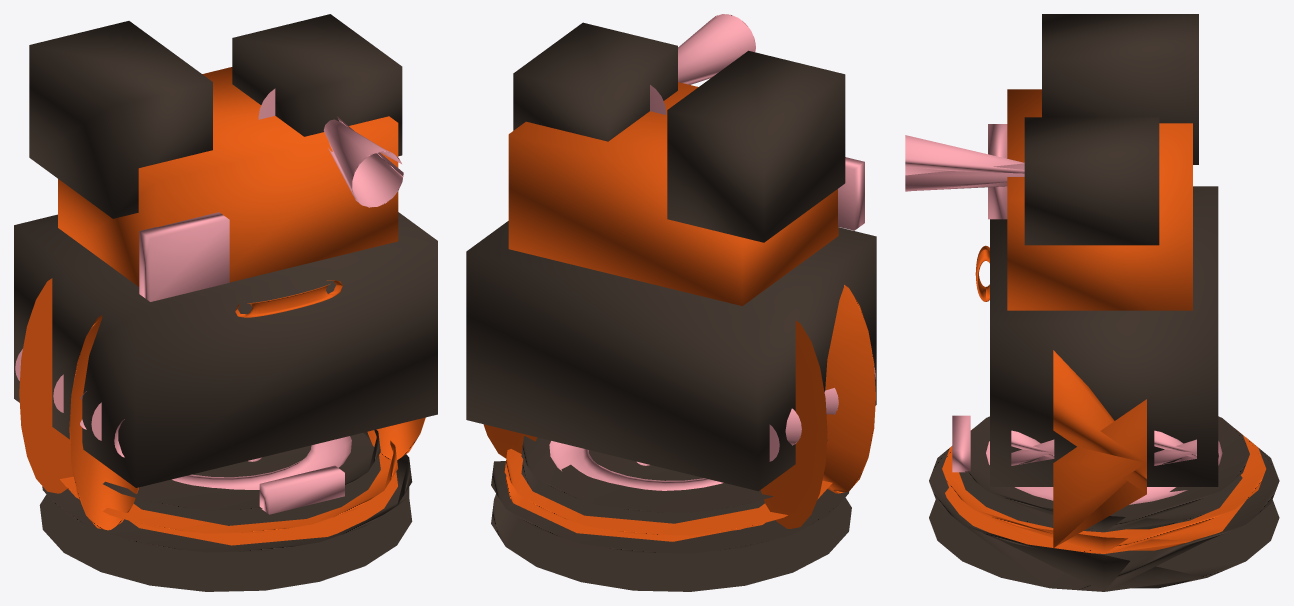
Rendered from the_tank.glb.
3 renders of one model, left to right at view 1: azimuth 30°, elevation 25°; view 2: azimuth 150°, elevation 25°; view 3: azimuth 270°, elevation 25°, orthographic. The views are drawn at different scales.
Visible parts, largest first — view 1: the_tank_#3C3028, the_tank_#EA580C, the_tank_#FDA4AF; view 2: the_tank_#3C3028, the_tank_#EA580C, the_tank_#FDA4AF; view 3: the_tank_#3C3028, the_tank_#EA580C, the_tank_#FDA4AF.
Boxes of the visible parts, bbox=[...] form: the_tank_#3C3028: bbox=[14, 14, 437, 591]; the_tank_#EA580C: bbox=[19, 67, 425, 545]; the_tank_#FDA4AF: bbox=[15, 88, 403, 514]; the_tank_#3C3028: bbox=[466, 22, 876, 591]; the_tank_#EA580C: bbox=[483, 82, 875, 541]; the_tank_#FDA4AF: bbox=[549, 14, 875, 490]; the_tank_#3C3028: bbox=[929, 14, 1279, 591]; the_tank_#EA580C: bbox=[942, 89, 1266, 553]; the_tank_#FDA4AF: bbox=[905, 124, 1222, 504].
Bounding box in the file's own units: 1.95 × 2.37 × 1.84.
